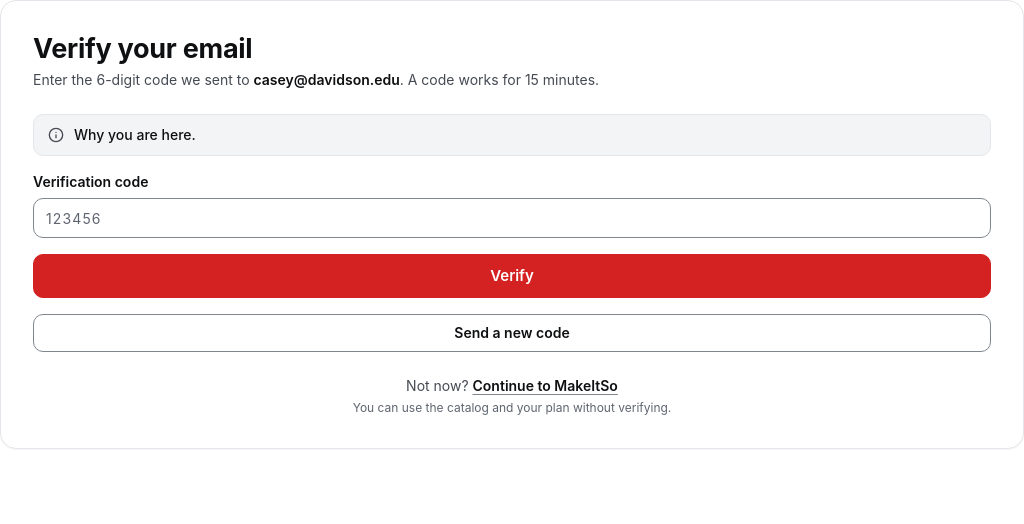
Test case: VerifyForm › shows why a code failed, and confirms a resend
The image size is (1024, 524).
Expected: the message reads "Why you are here.", [74,126,196,143]
Type "000000" into the field labelled "Verification code" at (512, 218), box [33,198,991,238]
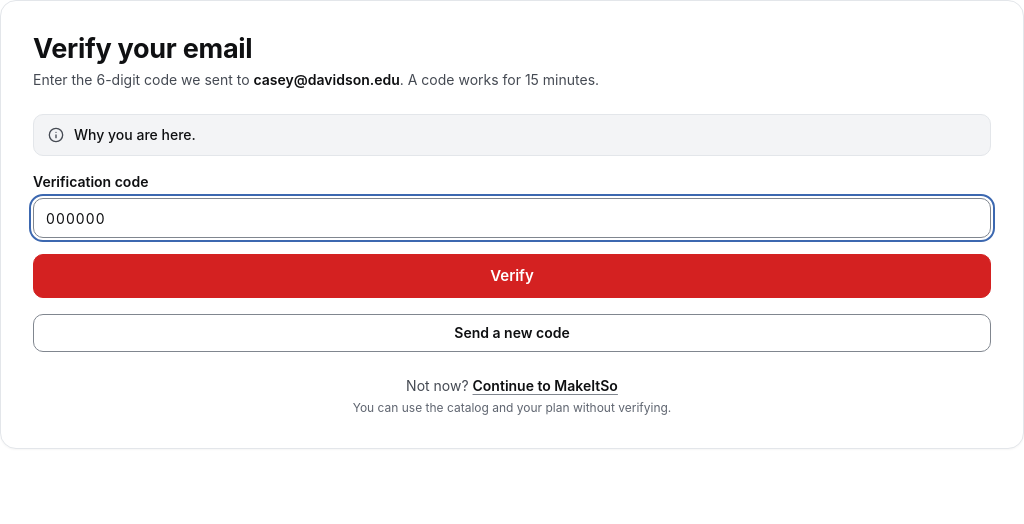
Click the button "Verify" at (512, 276), box [33,254,991,298]
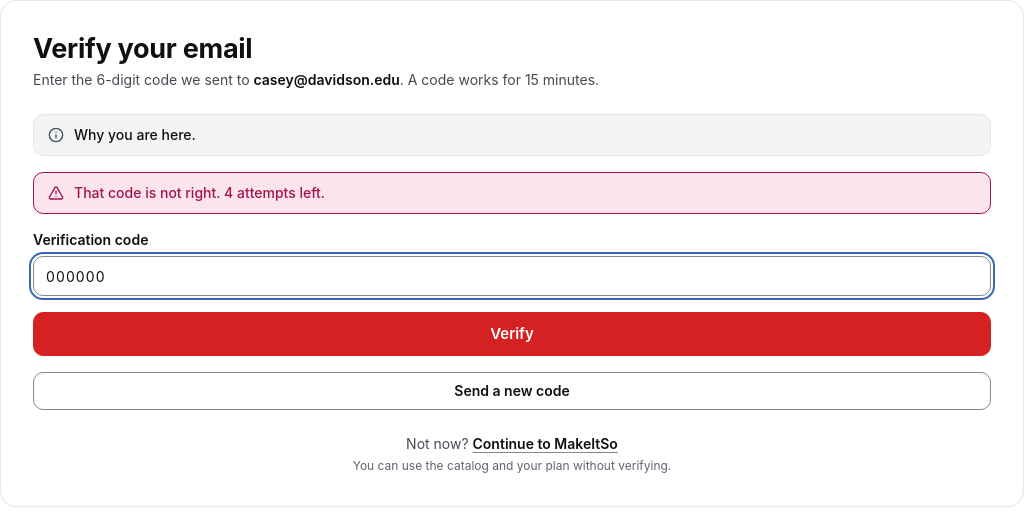
Expected: the message "That code is not right. 4 attempts left." is shown, [33,172,991,214]
Click the button "Send a new code" at (512, 391), box [33,372,991,410]
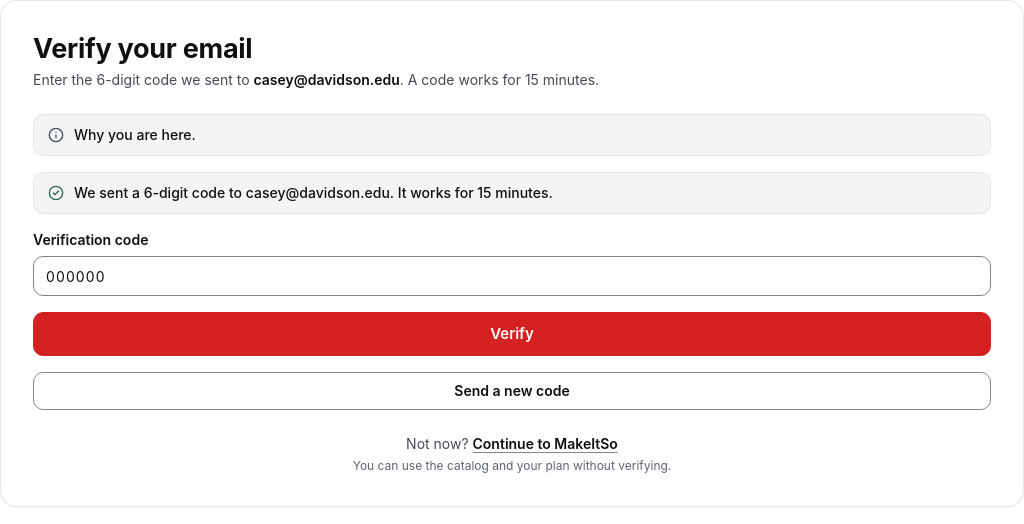
Expected: the text "We sent a 6-digit code to casey@davidson.edu. It works for 15 minutes." is shown, [74,183,553,203]
